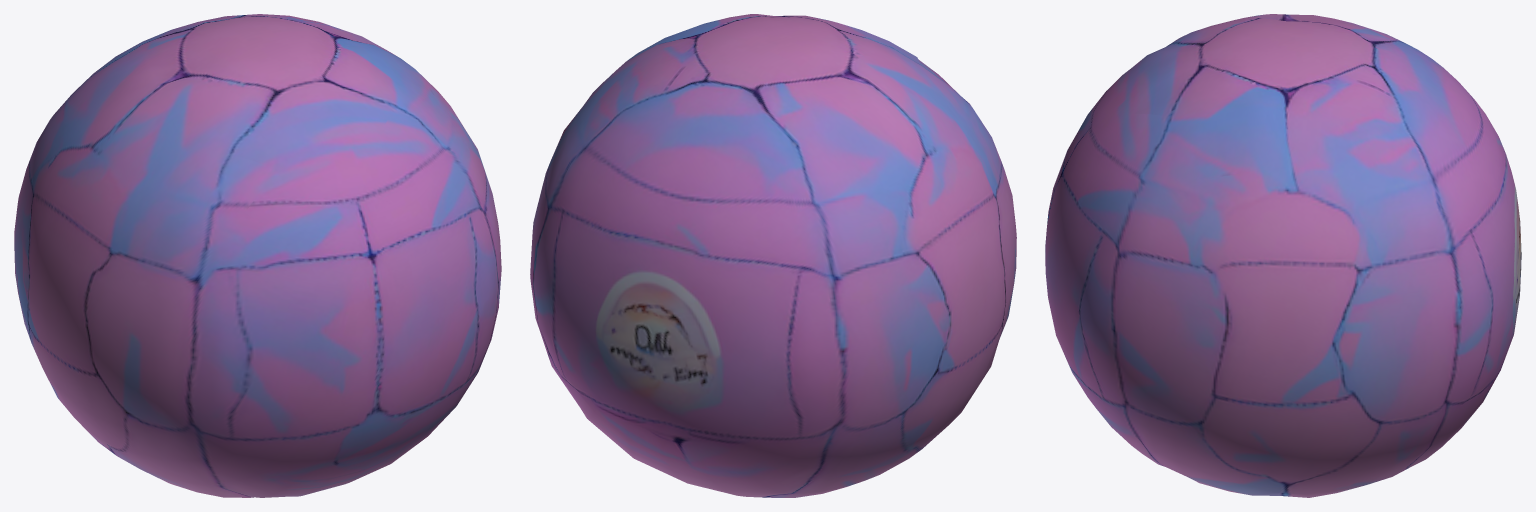
The model's file is 04-6493239-Pink-Gradient-Soccer-Ball-model-pack.glb.
3 renders of one model, left to right at view 1: azimuth 30°, elevation 25°; view 2: azimuth 150°, elevation 25°; view 3: azimuth 270°, elevation 25°, orthographic.
Visible parts, largest first — view 1: Retopo_neural_node_f6bf1e37-8e0e-493b-858c-07ed4fe5fcc5; view 2: Retopo_neural_node_f6bf1e37-8e0e-493b-858c-07ed4fe5fcc5; view 3: Retopo_neural_node_f6bf1e37-8e0e-493b-858c-07ed4fe5fcc5.
Part boxes in pixels (x1=…): Retopo_neural_node_f6bf1e37-8e0e-493b-858c-07ed4fe5fcc5: x1=14, y1=14, x2=501, y2=497; Retopo_neural_node_f6bf1e37-8e0e-493b-858c-07ed4fe5fcc5: x1=530, y1=14, x2=1016, y2=497; Retopo_neural_node_f6bf1e37-8e0e-493b-858c-07ed4fe5fcc5: x1=1045, y1=14, x2=1521, y2=497.
Bounding box in the file's own units: 0.9468 × 0.9472 × 0.9486.
1 material, 1 textured.
